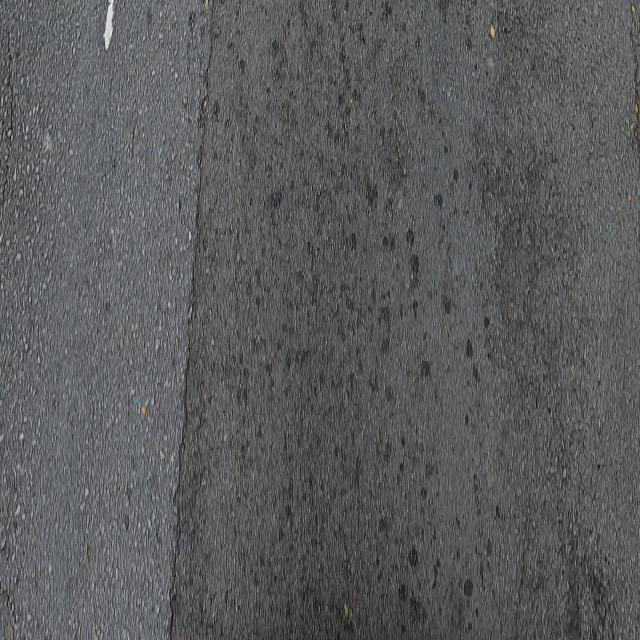Retak-Memanjang: (159, 0, 222, 640)
